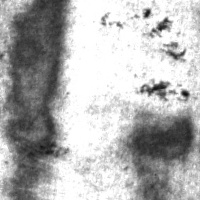patches: (0, 0, 75, 191), (124, 105, 197, 165), (133, 155, 178, 199)
